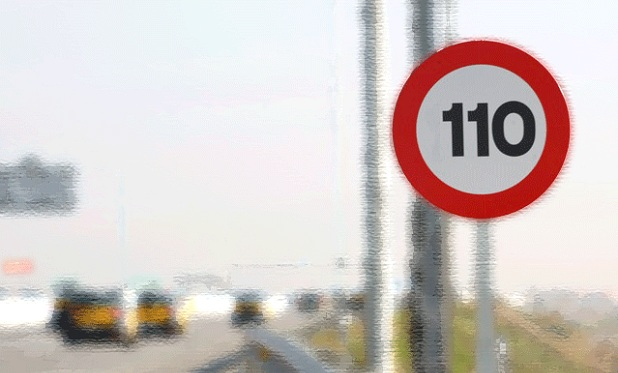Speed_limit_110km: (392, 39, 574, 220)
